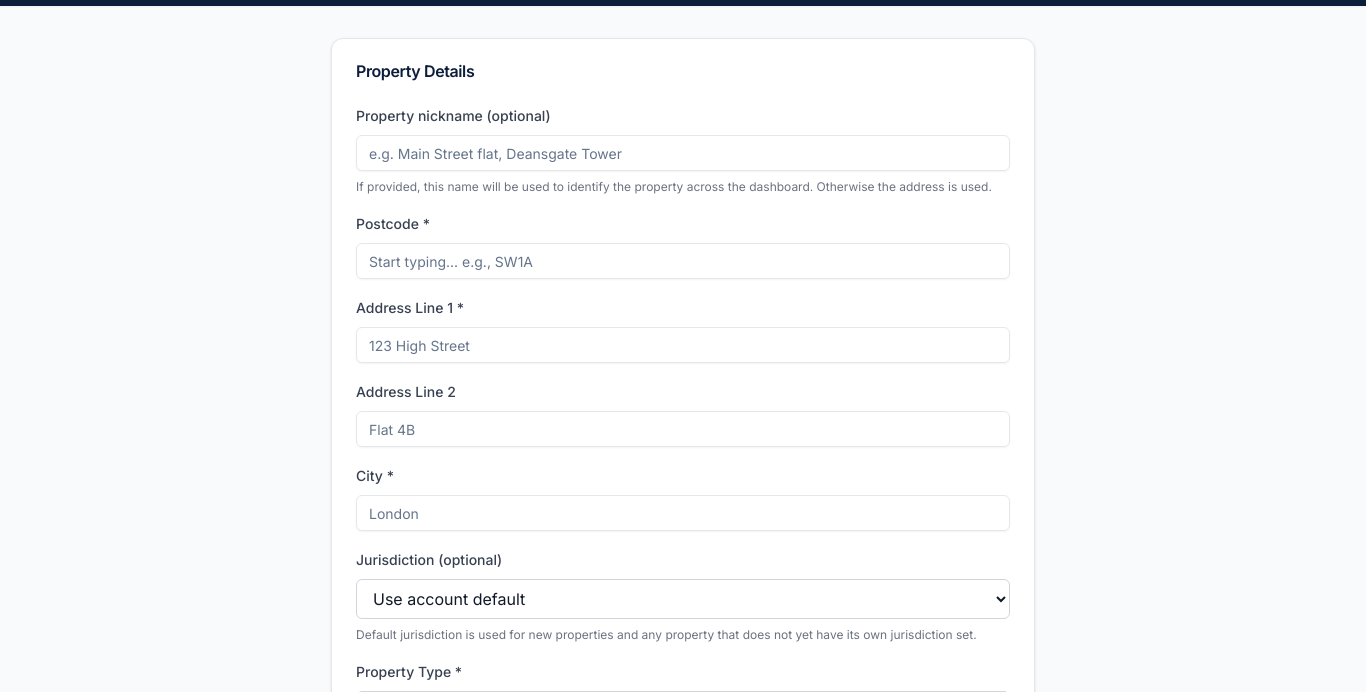
Test case: PropertyCreatePage address lookup › shows building age field when jurisdiction is Scotland
Select "Scotland" in the dropdown with test id "create-property-jurisdiction-select" at (683, 599), box 356,579 -> 1010,619
(page scrolled)
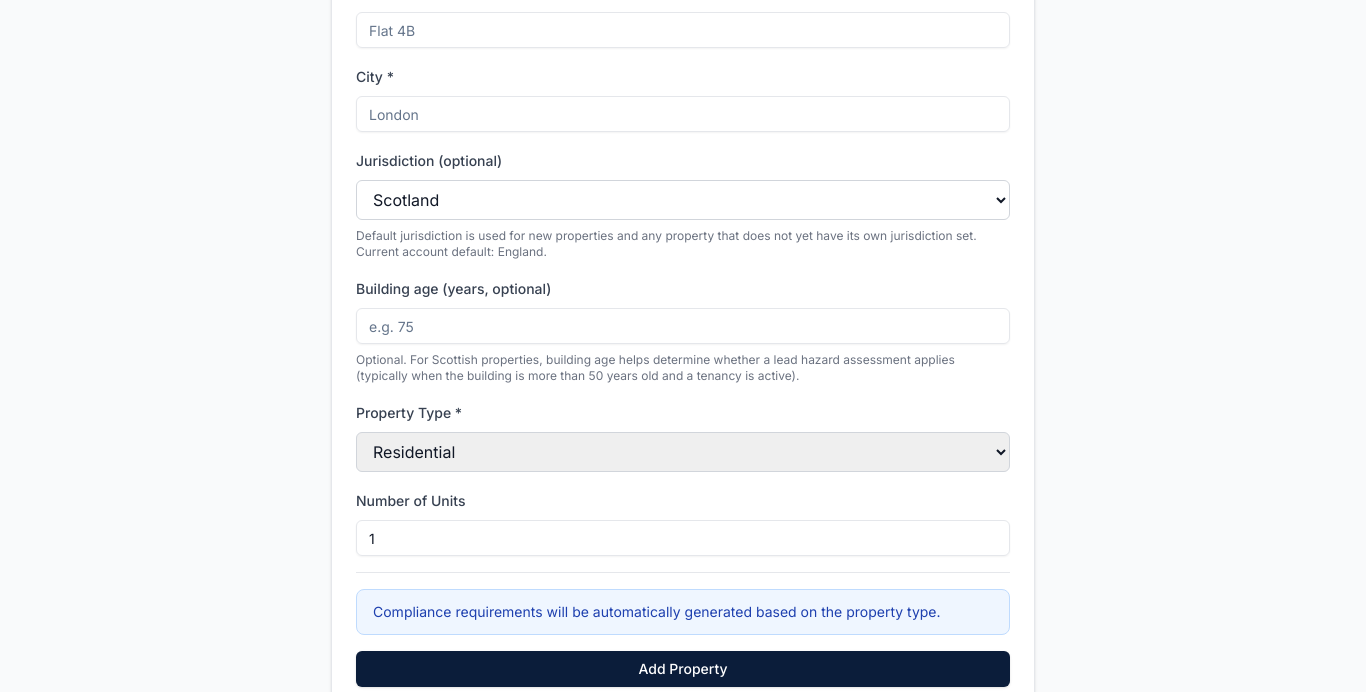
Expected: the number field with test id "building-age-years-input" is shown, 356,308 -> 1010,344
